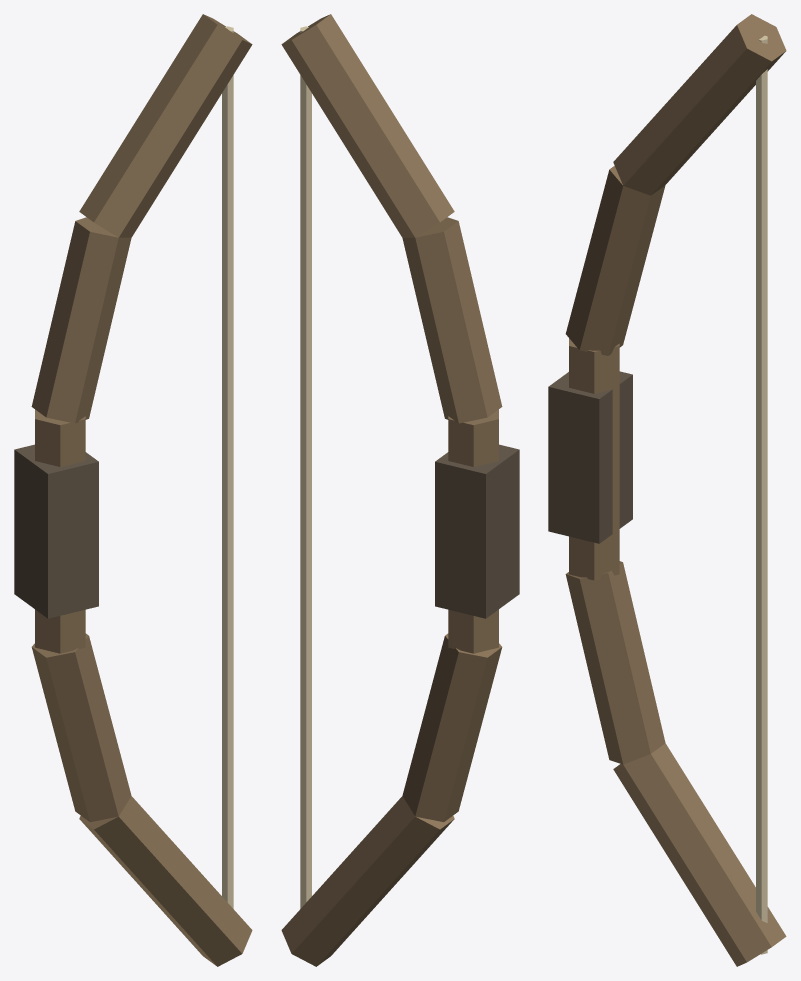
Rendered from Pawn_Bow.fbx.
3 views of the same model, side by side, from view 1: azimuth 30°, elevation 25°; view 2: azimuth 150°, elevation 25°; view 3: azimuth 330°, elevation 25° (orthographic).
Visible parts, largest first — view 1: Pawn_Bow; view 2: Pawn_Bow; view 3: Pawn_Bow.
Boxes of the visible parts, bbox=[...] form: Pawn_Bow: bbox=[14, 14, 252, 966]; Pawn_Bow: bbox=[281, 14, 519, 966]; Pawn_Bow: bbox=[548, 14, 786, 966].
Bounding box in the file's own units: 0.294 × 1.24 × 0.08.
